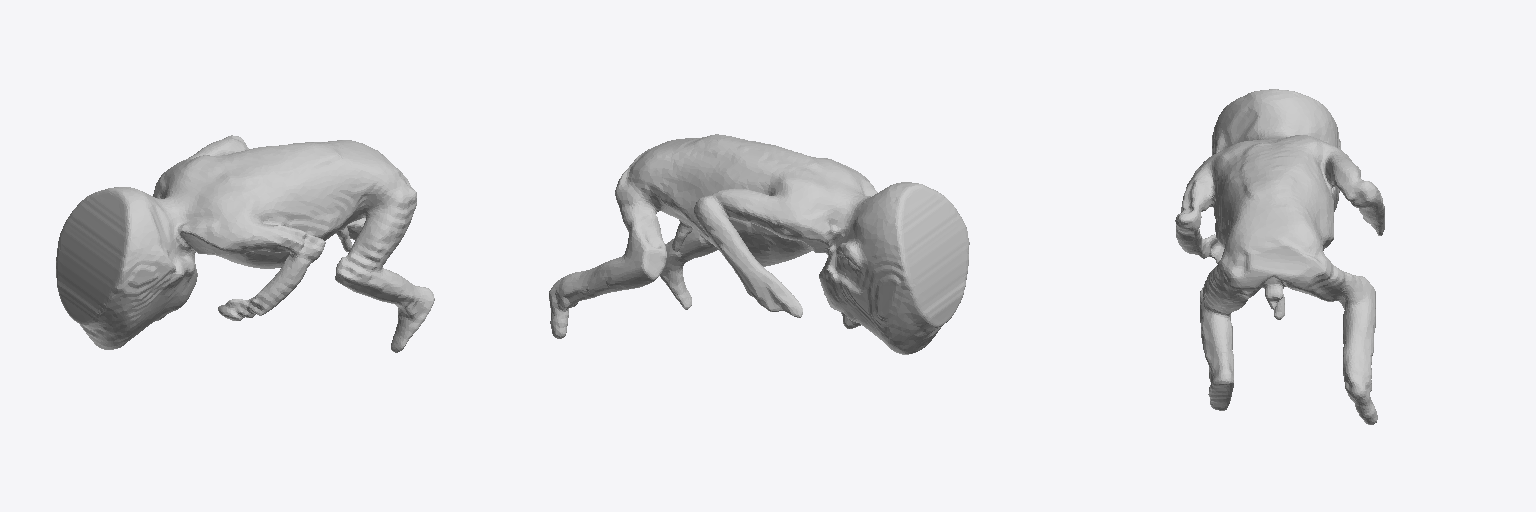
File: FoetusSegmentation.obj
3 renders of one model, left to right at view 1: azimuth 30°, elevation 25°; view 2: azimuth 150°, elevation 25°; view 3: azimuth 270°, elevation 25°, orthographic.
Bounding box in the file's own units: 191 × 103 × 96.42.